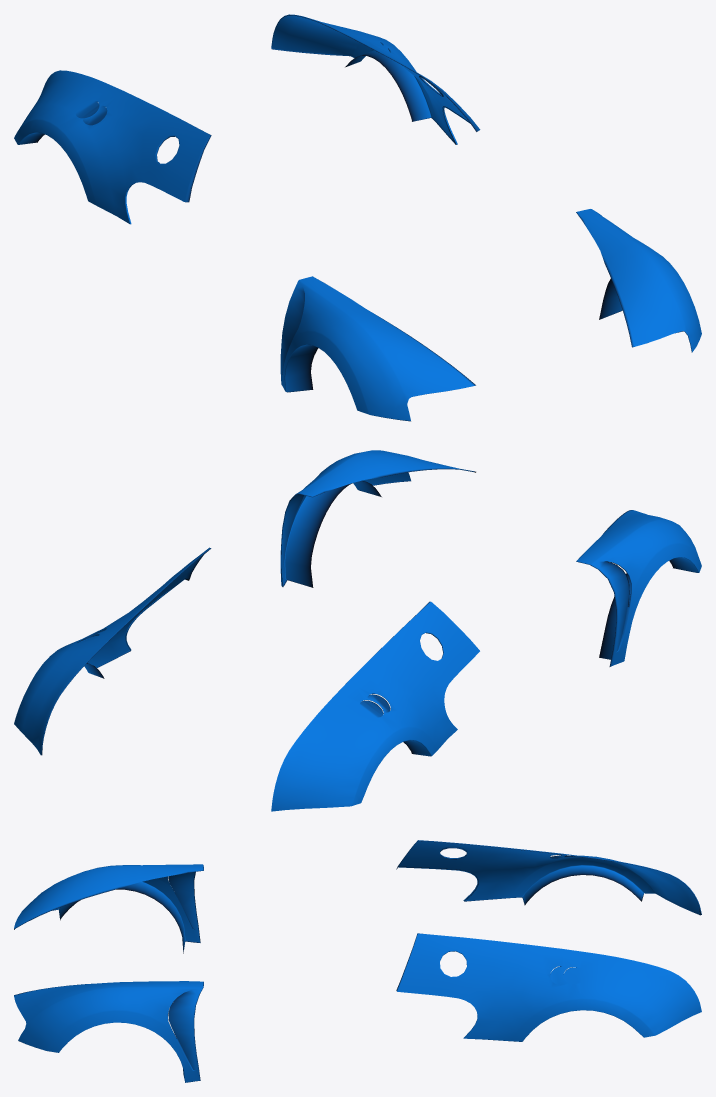
File: Veyron_Fender02_Duco.fbx
The picture shows the model from 3 angles, top to bottom: view 1: azimuth 30°, elevation 25°; view 2: azimuth 150°, elevation 25°; view 3: azimuth 270°, elevation 25°; orthographic projection. The views are drawn at different scales.
Visible parts, largest first — view 1: Veyron_Fender02_Duco; view 2: Veyron_Fender02_Duco; view 3: Veyron_Fender02_Duco.
Boxes of the visible parts, x1=… form: Veyron_Fender02_Duco: x1=14, y1=14, x2=701, y2=421; Veyron_Fender02_Duco: x1=14, y1=450, x2=701, y2=811; Veyron_Fender02_Duco: x1=14, y1=840, x2=701, y2=1082.
Size of the model in its own units: 197 by 80.73 by 395.
